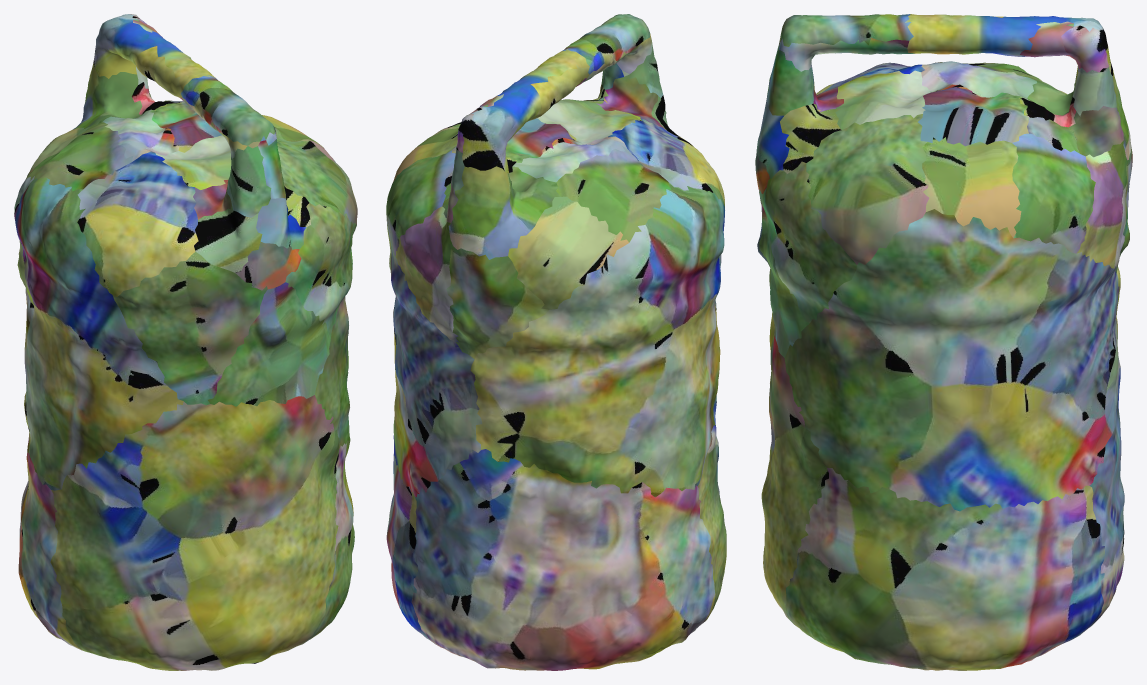
The model's file is Portable_Water_Contai_0822030108_preview.obj.
3 renders of one model, left to right at view 1: azimuth 30°, elevation 25°; view 2: azimuth 150°, elevation 25°; view 3: azimuth 270°, elevation 25°, orthographic. The views are drawn at different scales.
Visible parts, largest first — view 1: Mesh1; view 2: Mesh1; view 3: Mesh1.
Part boxes in pixels (x1=…): Mesh1: x1=14, y1=14, x2=357, y2=670; Mesh1: x1=386, y1=14, x2=726, y2=670; Mesh1: x1=755, y1=14, x2=1132, y2=670.
Bounding box in the file's own units: 0.6528 × 1.2 × 0.6736.
